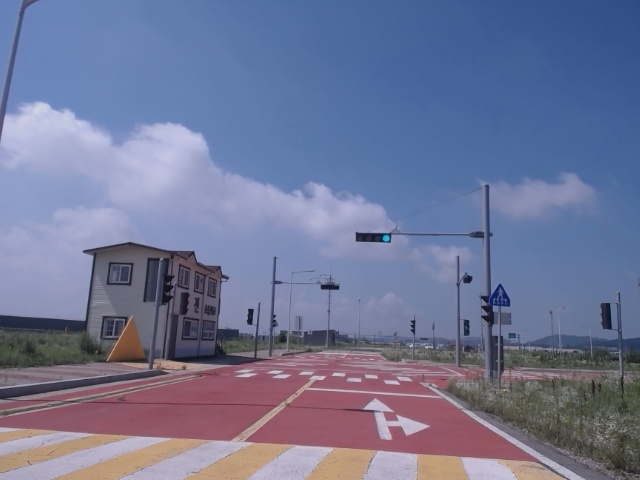straight_green_4: (357, 234, 391, 242)
